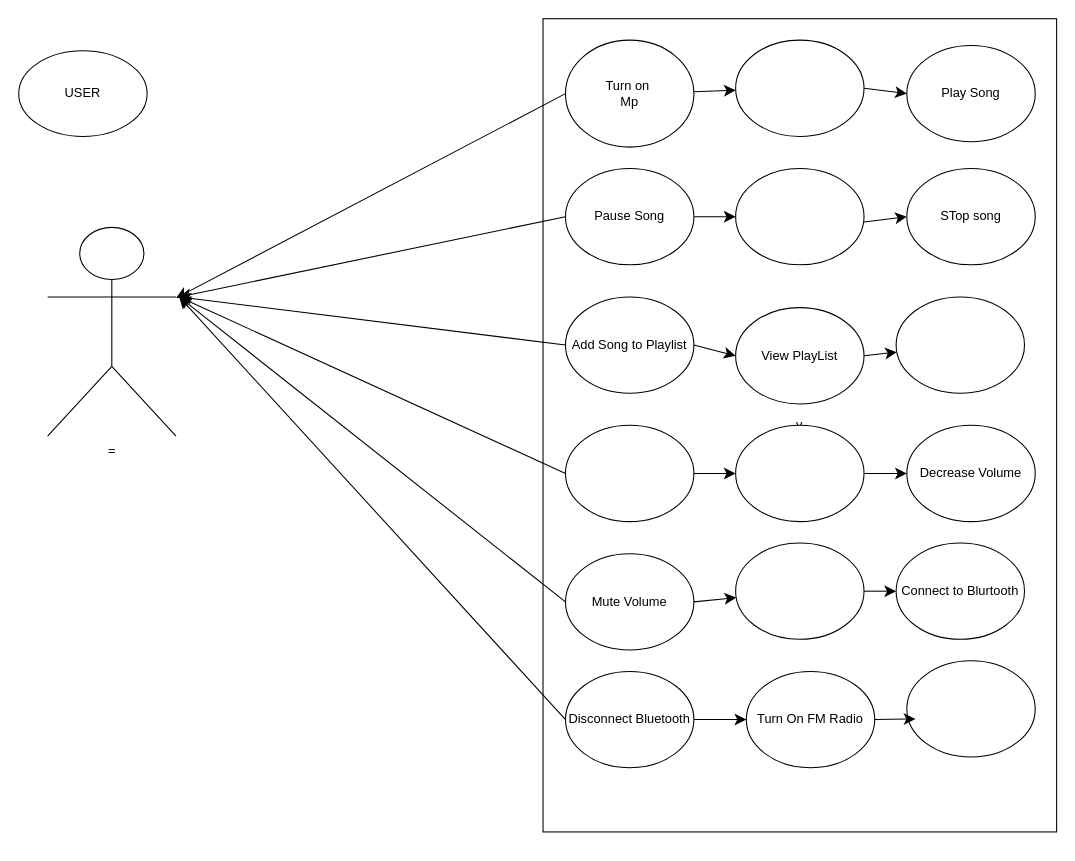
Image size: 1075x861. Some labels were removed from this diagram. Here are the shapes that lost their labels. From the top down, the centre of each, then its label:
At (799,87): "Turn Off Mp".
At (799,216): "Resume Song".
At (960,344): "Play The Next Song".
At (629,473): "Play The Previous Song".
At (799,473): "Increase Volume".
At (799,590): "Unmute Volume".
At (970,708): "Tuurn Off Radio".
